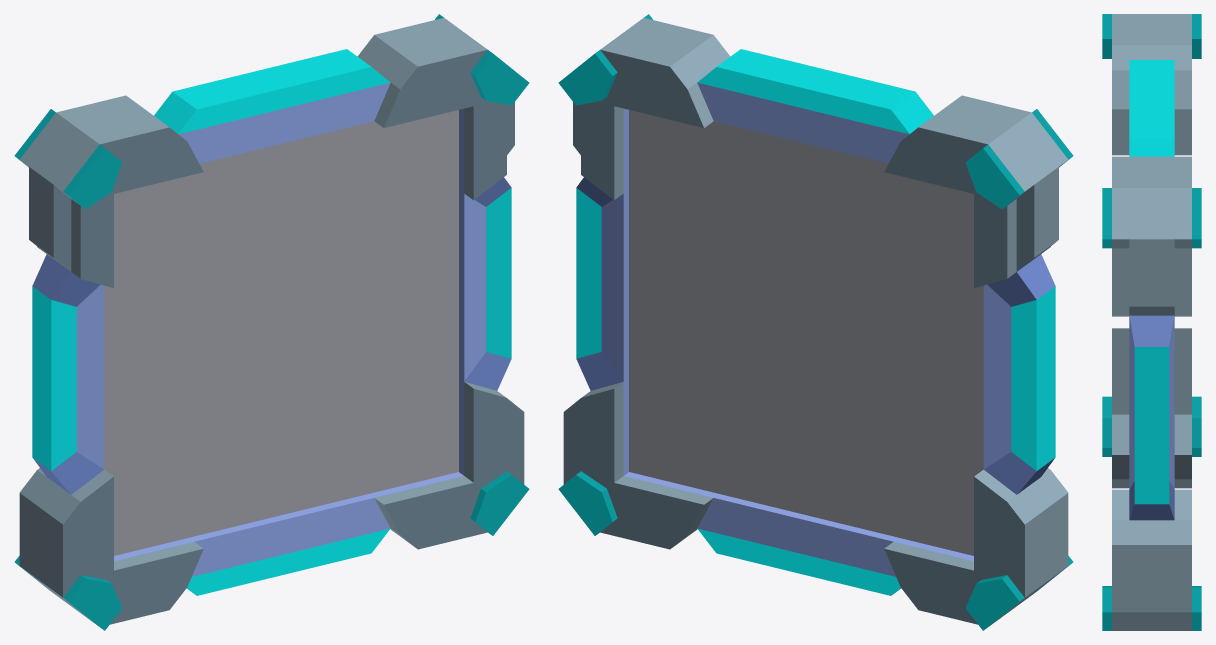
Rendered from QR_SciFi_Frame.glb.
The picture shows the model from 3 angles, left to right: view 1: azimuth 30°, elevation 25°; view 2: azimuth 150°, elevation 25°; view 3: azimuth 270°, elevation 25°; orthographic projection. The views are drawn at different scales.
Parts seen in each view (by area): view 1: QR_SciFi_SimpleFrame; view 2: QR_SciFi_SimpleFrame; view 3: QR_SciFi_SimpleFrame.
Part boxes in pixels (x1,y1,x2,y2): QR_SciFi_SimpleFrame: [14, 14, 529, 630]; QR_SciFi_SimpleFrame: [558, 14, 1073, 630]; QR_SciFi_SimpleFrame: [1102, 14, 1201, 630].
Size of what is drawn, in the model's own units: 0.5776 by 0.5819 by 0.117.
1 material, 1 textured.
